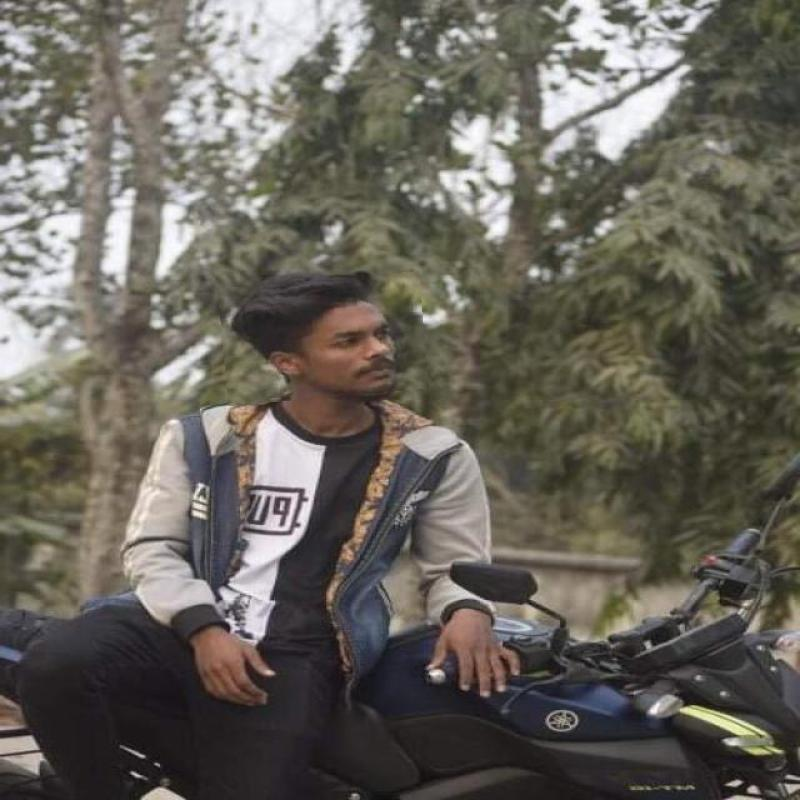nohelmet: (220, 276, 428, 402)
